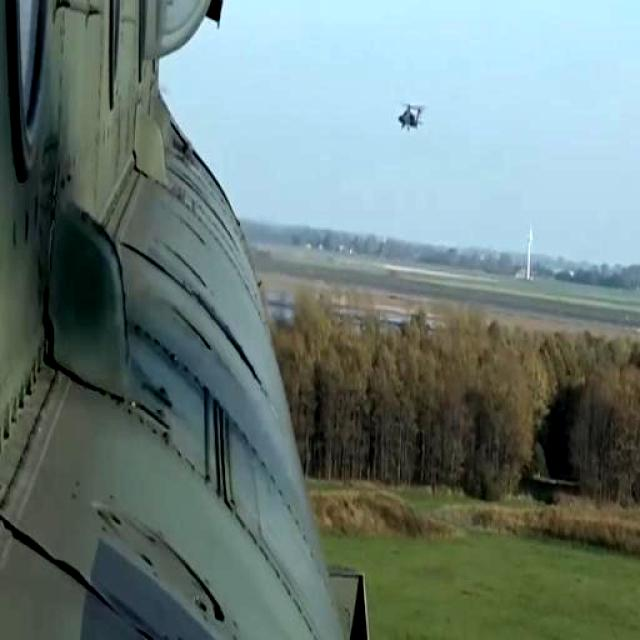drone: (390, 90, 431, 144)
